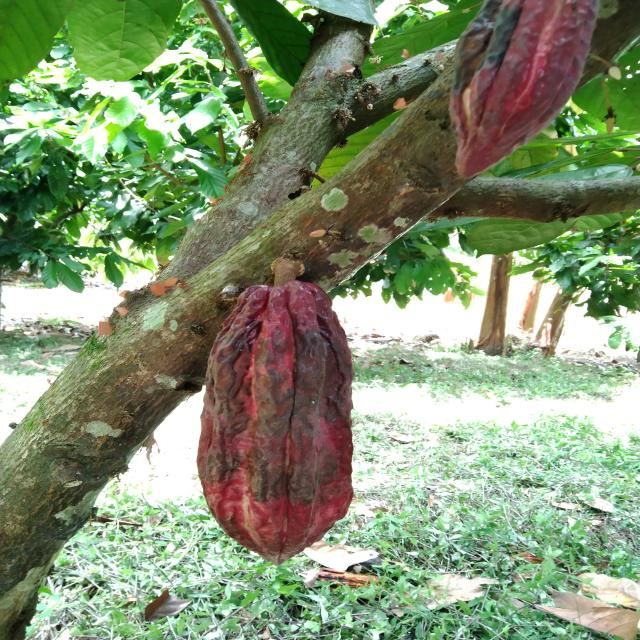Fitoftora: (193, 283, 361, 561), (441, 0, 596, 186)
